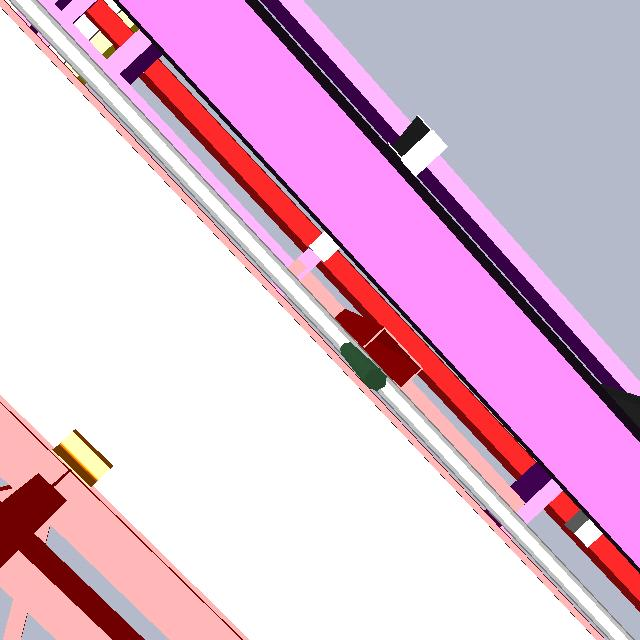Poste: (331, 337, 393, 404)
Soporte: (321, 292, 435, 389)
